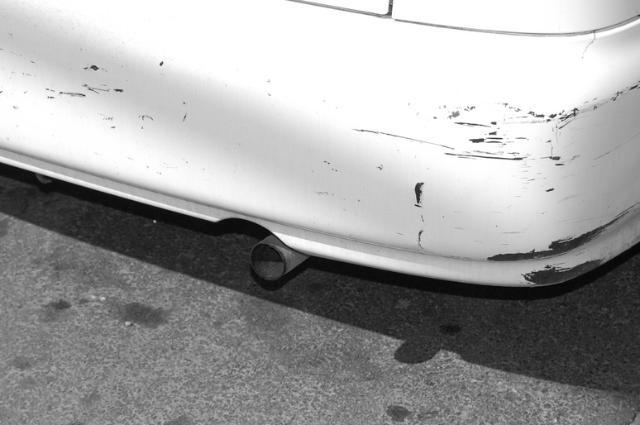Bumper: (17, 31, 623, 244)
